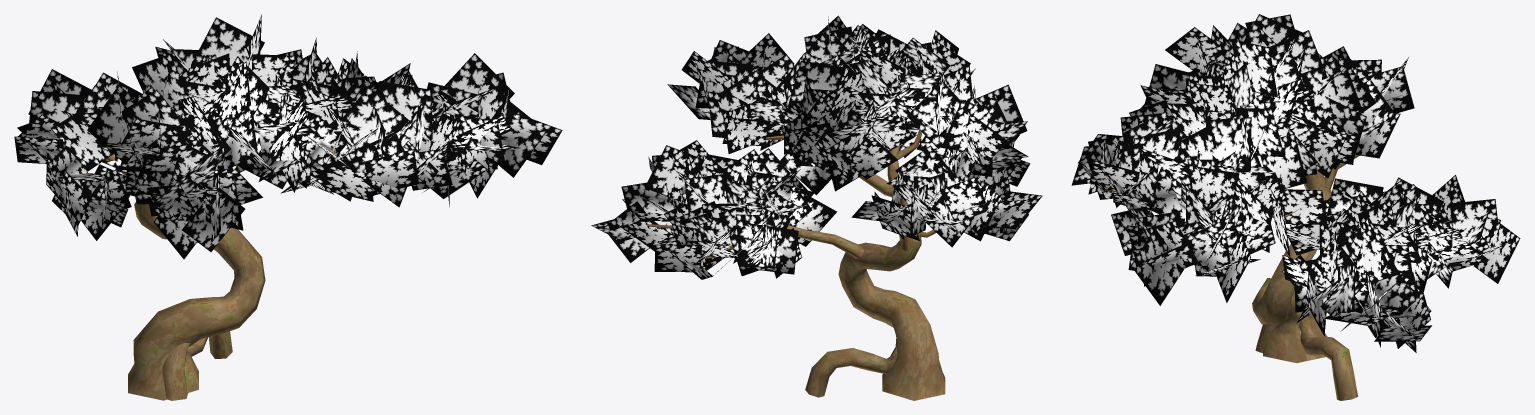
The model's file is P_RedMaple03_Gold.obj.
3 renders of one model, left to right at view 1: azimuth 30°, elevation 25°; view 2: azimuth 150°, elevation 25°; view 3: azimuth 270°, elevation 25°, orthographic. The views are drawn at different scales.
Bounding box in the file's own units: 27.92 × 21.92 × 25.26.
